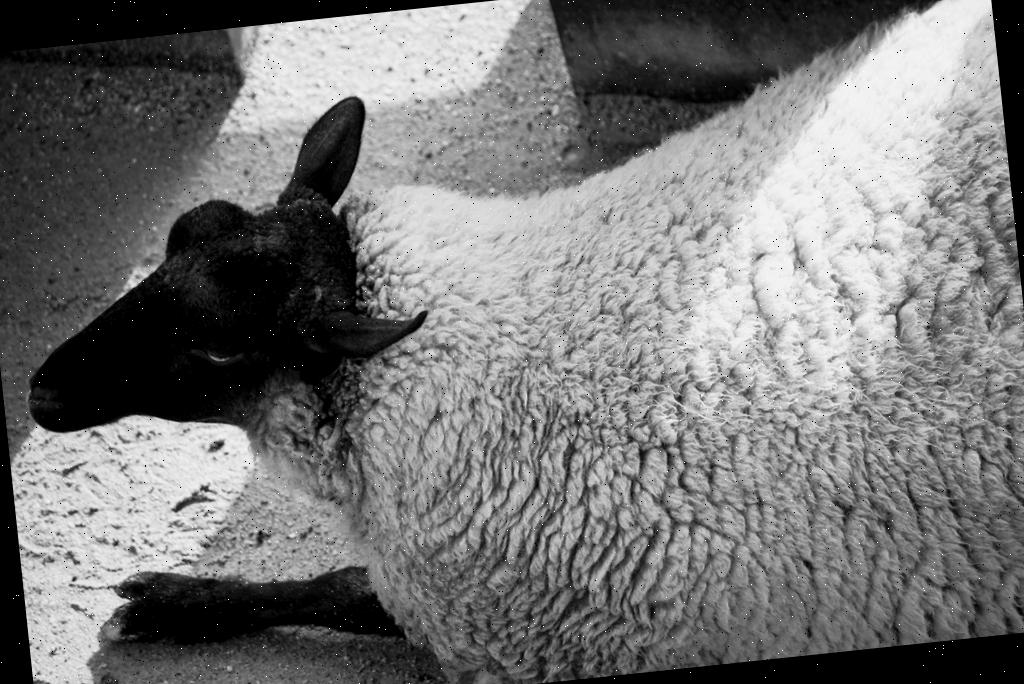Sheep: (0, 0, 999, 684)
